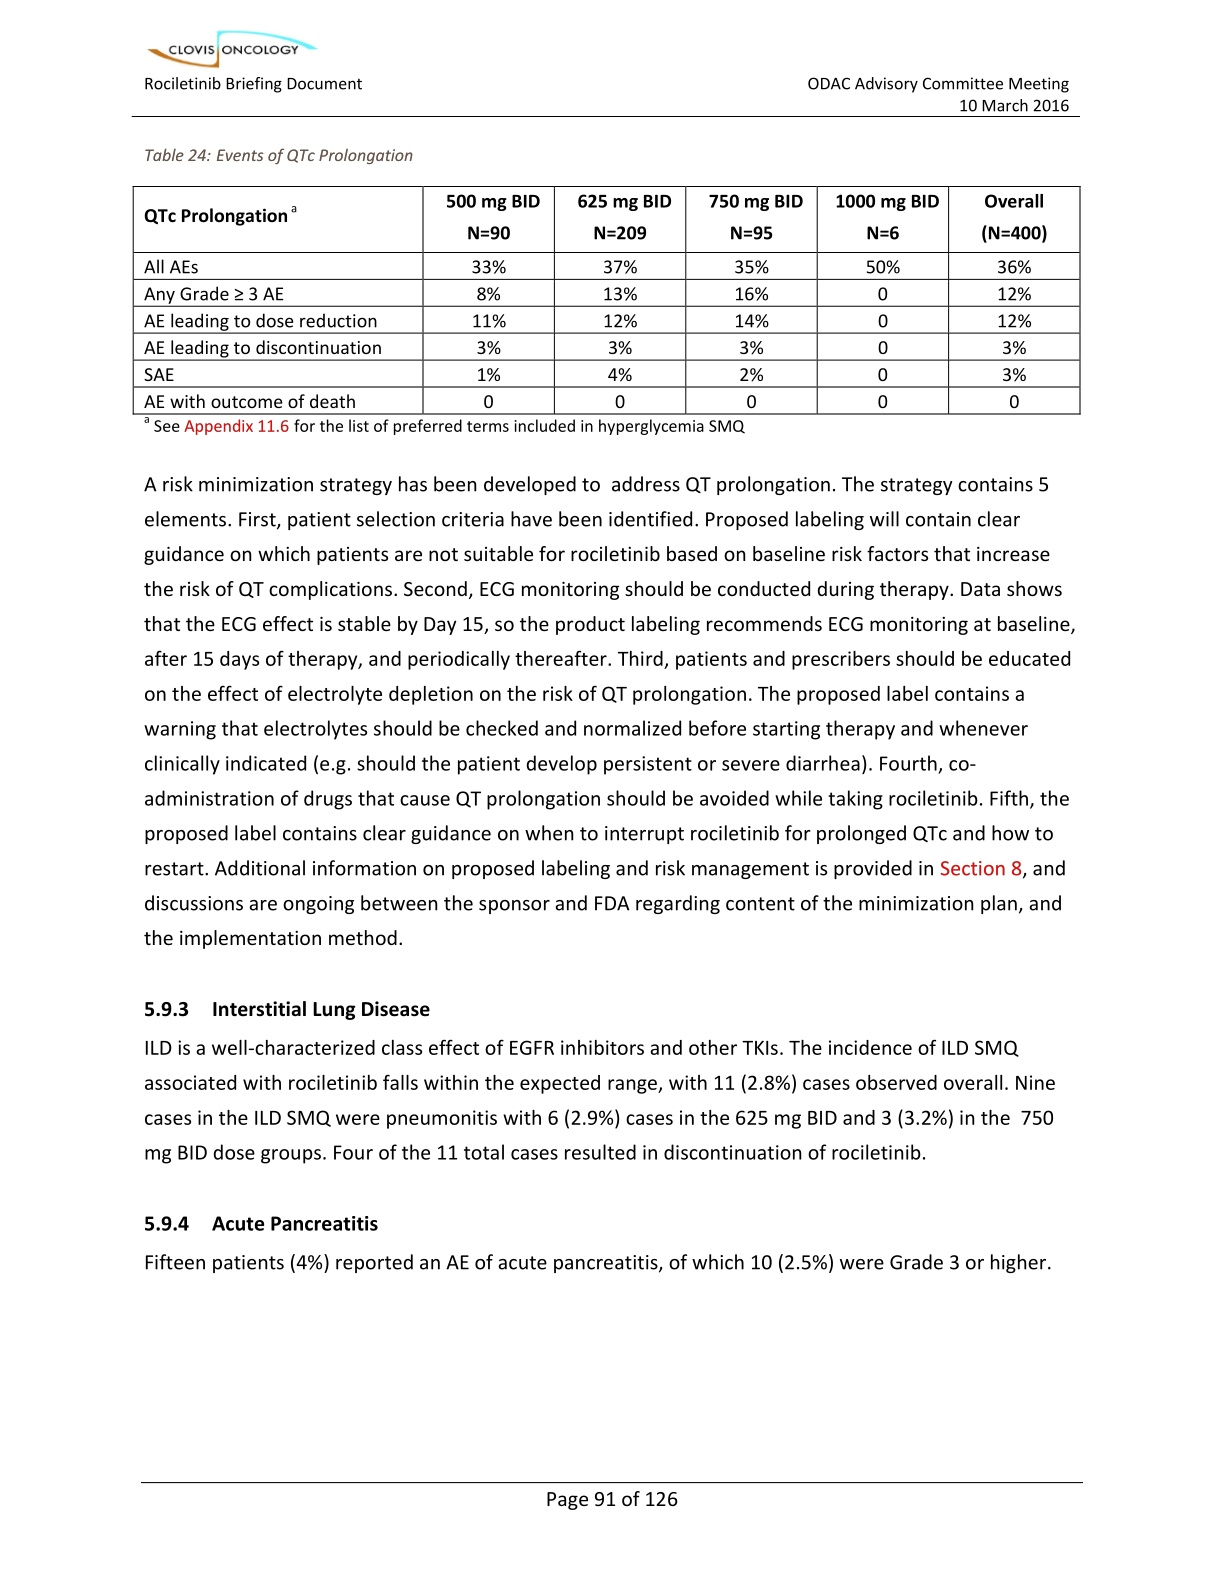full_lined: (132, 184, 1081, 417)
